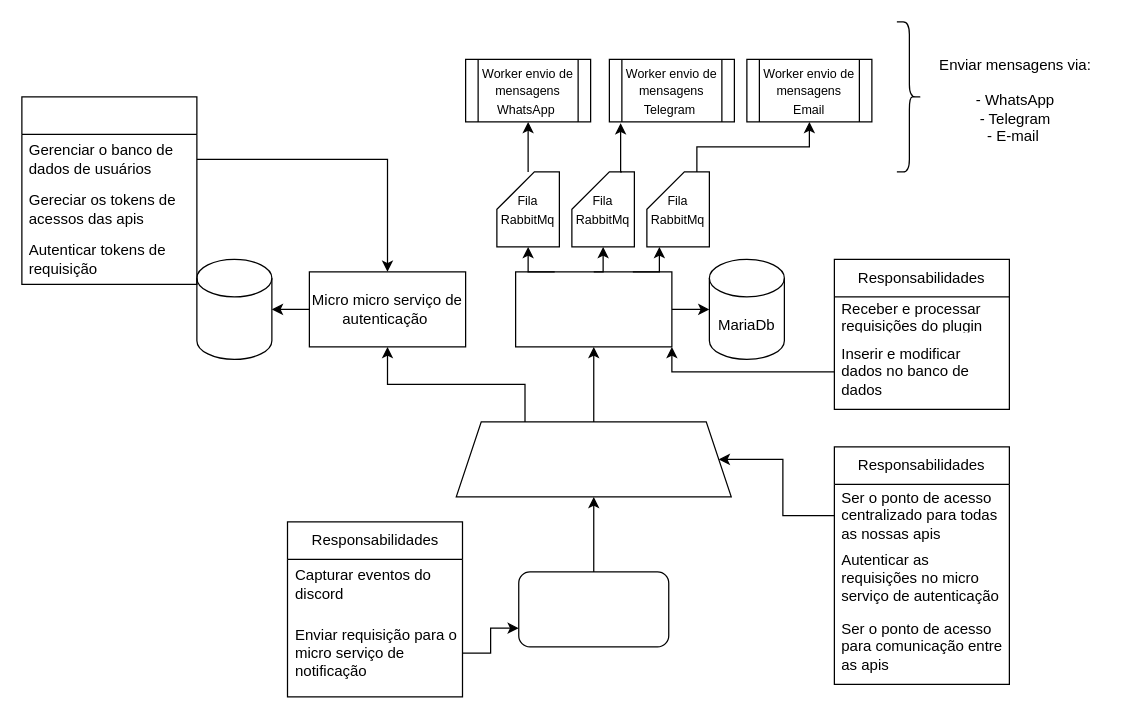
Image size: 1131x719. Some labels were removed from this diagram. The box of each missing label's shape, as (x1, y1, x2, y2) in pixels:
API Gateway: (455, 421, 731, 497)
DB: (196, 258, 272, 359)
Discord Plugin usando discordJs: (518, 571, 669, 647)
List: (21, 96, 197, 284)
Micro serviço de notificações: (514, 271, 672, 347)
